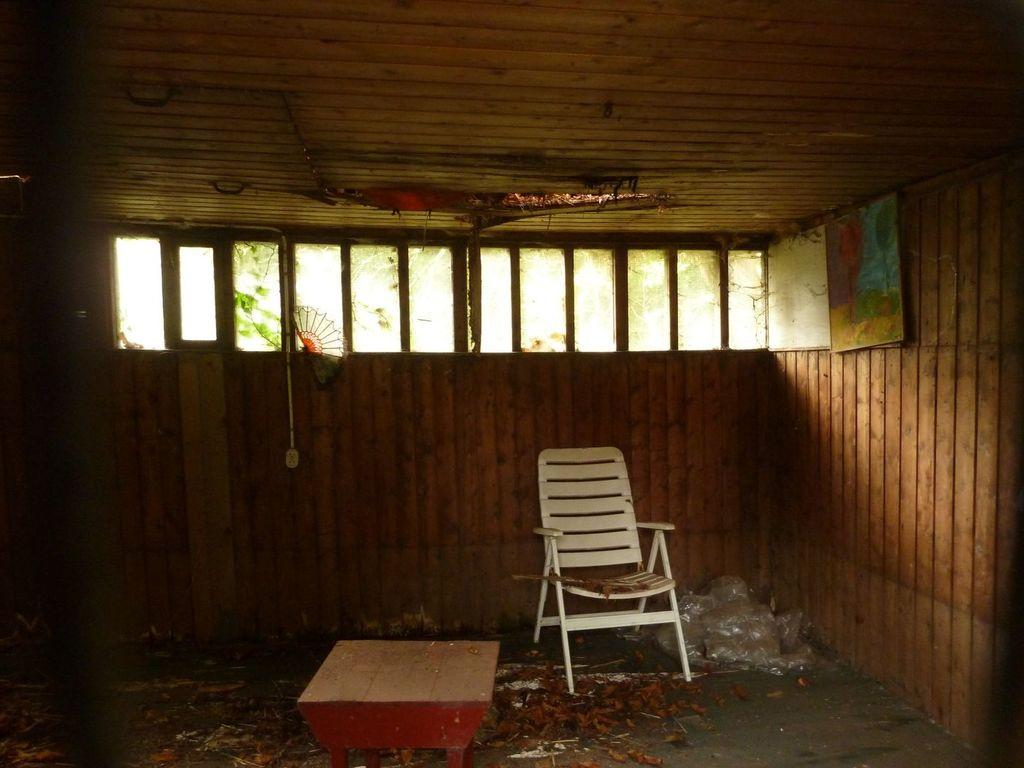Chair: (527, 448, 690, 712)
